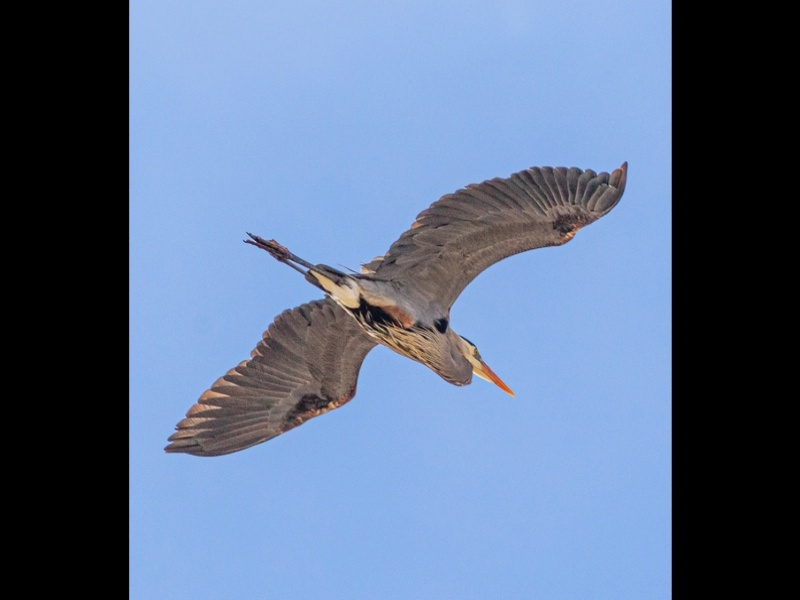heron: (159, 154, 631, 462)
